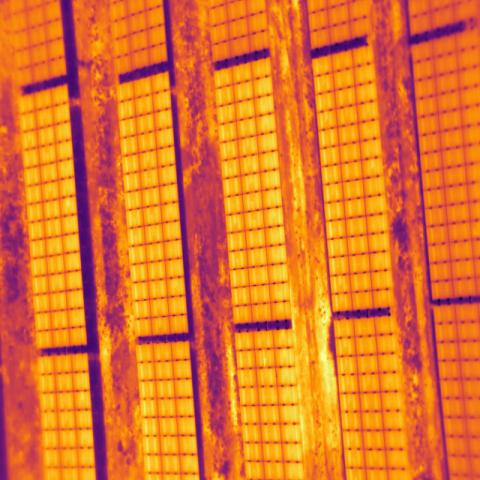fault: (255, 350, 275, 369)
